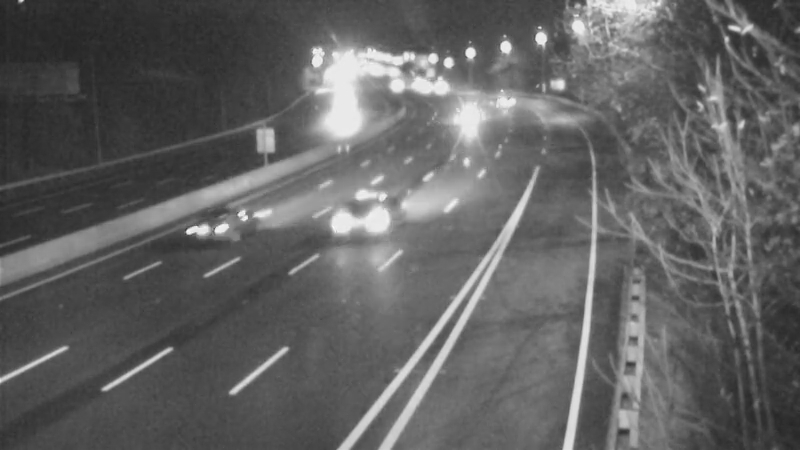vehicle: (325, 174, 405, 254), (187, 189, 267, 269), (416, 62, 466, 112), (372, 62, 422, 112), (480, 73, 530, 123), (439, 91, 489, 141), (318, 93, 368, 143)
